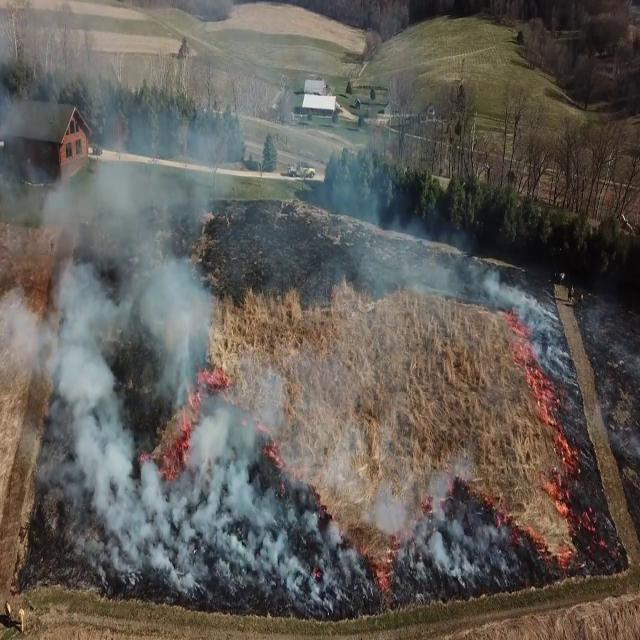Smoke: (0, 11, 255, 598)
